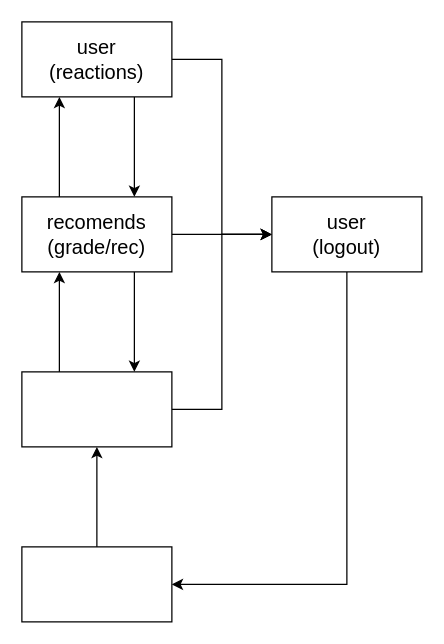
This 444x644 diagram has some shape labels left out. The shapes that lost their labels are listed below. From the top down, each one's centre as x and y in pixels, then its label:
At point 96,409: "pet (add/del/edit)".
At point 96,584: "user (reg/login)".
